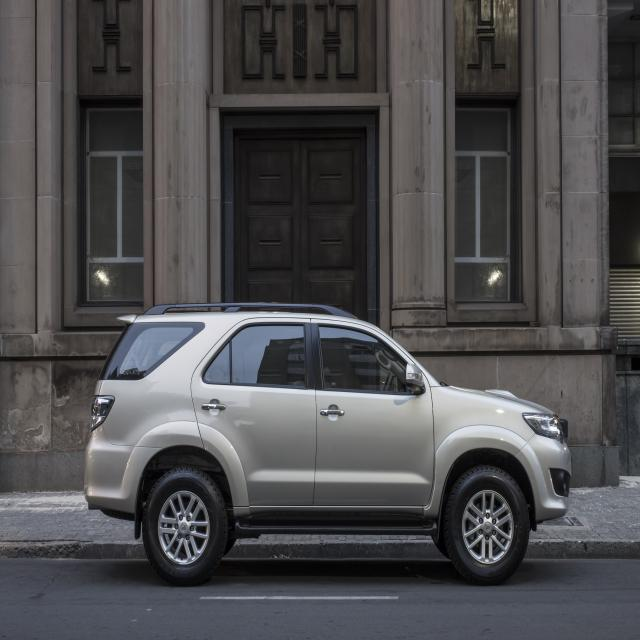light_vehicle: (82, 302, 574, 588)
